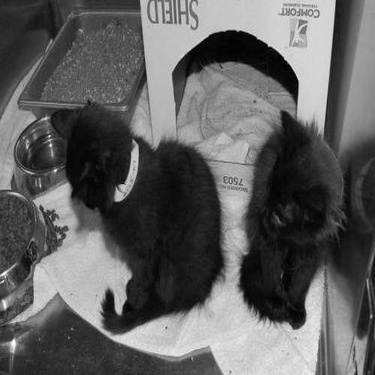cat: (43, 102, 218, 336), (233, 104, 345, 334)
